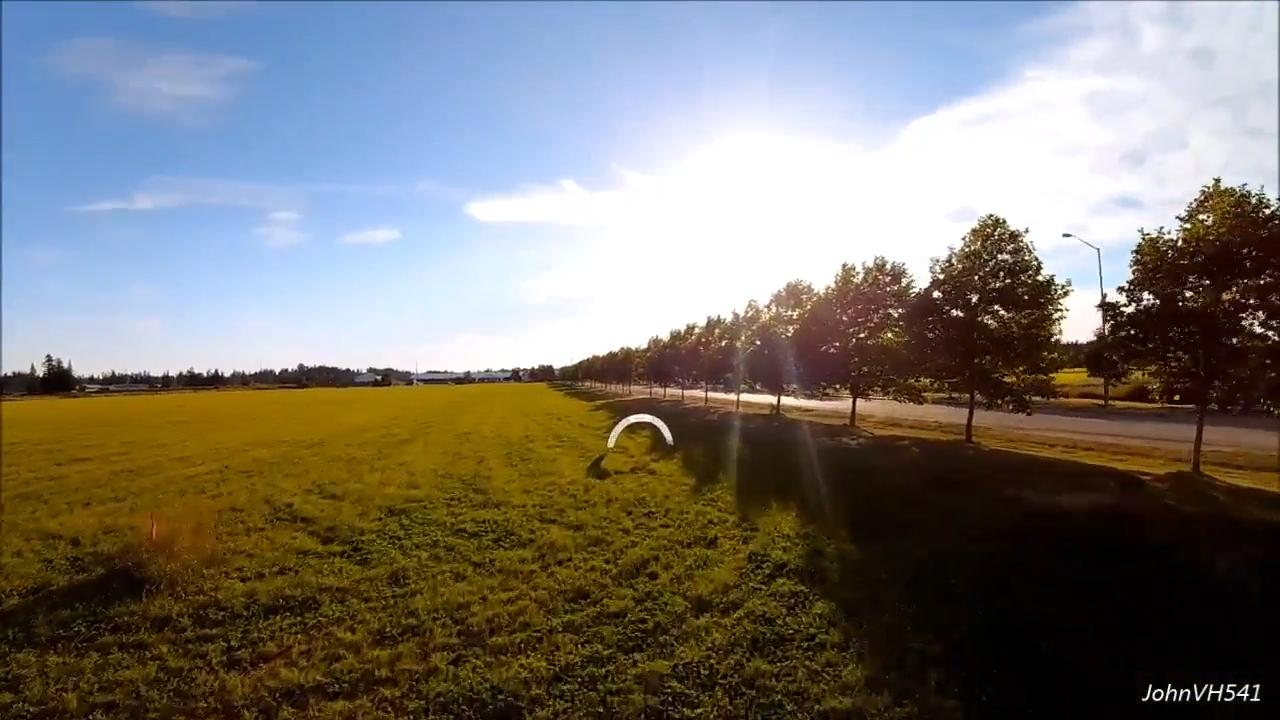gate: (605, 411, 676, 453)
